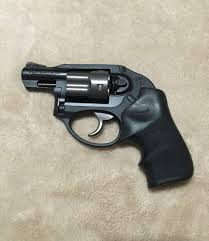gun: (19, 59, 199, 192)
